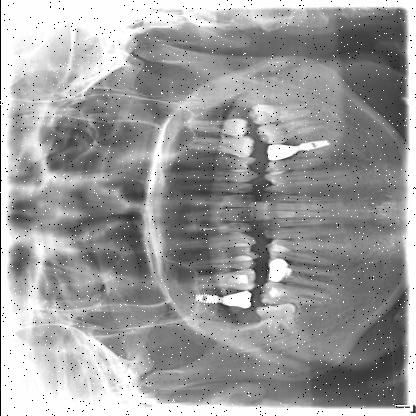Bicon: (293, 138, 330, 154), (190, 292, 219, 306)
